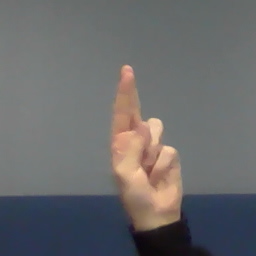R: (108, 63, 186, 209)
